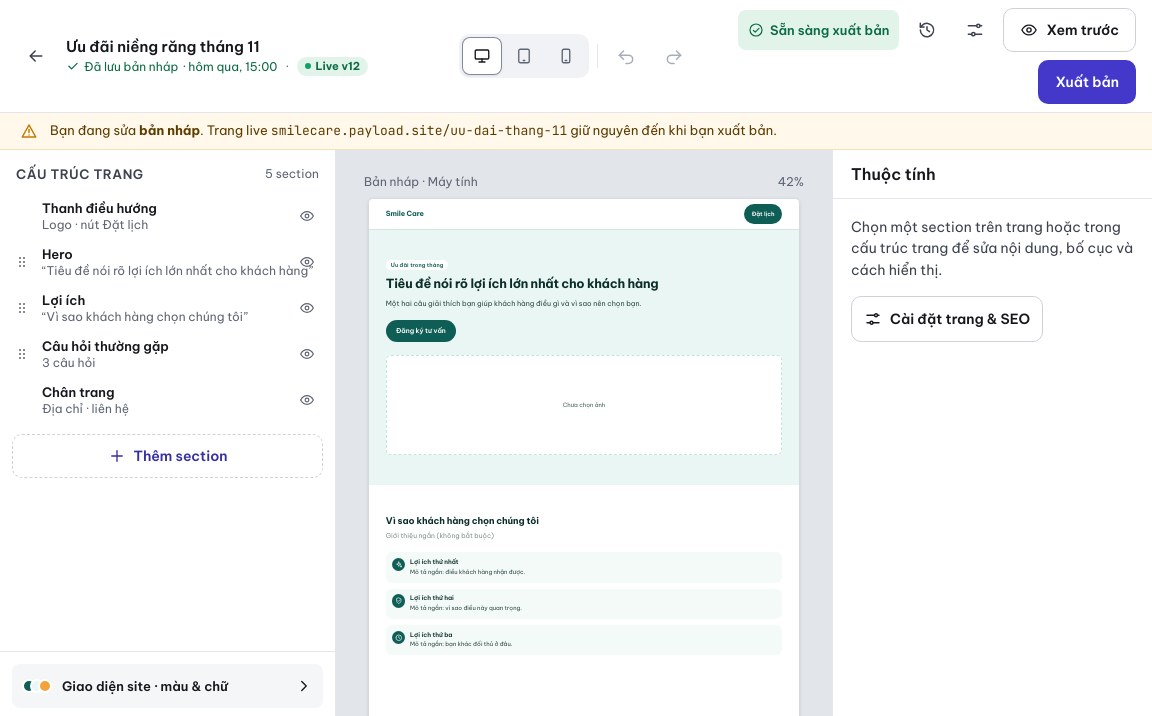
Test: EditorApp › reminds that the live page keeps its look after the site theme changes
Expected: the text "Live v12" is shown, left=296, top=57, right=368, bottom=76
Click the button "Giao diện site · màu & chữ" at (168, 686), box left=12, top=664, right=323, bottom=708
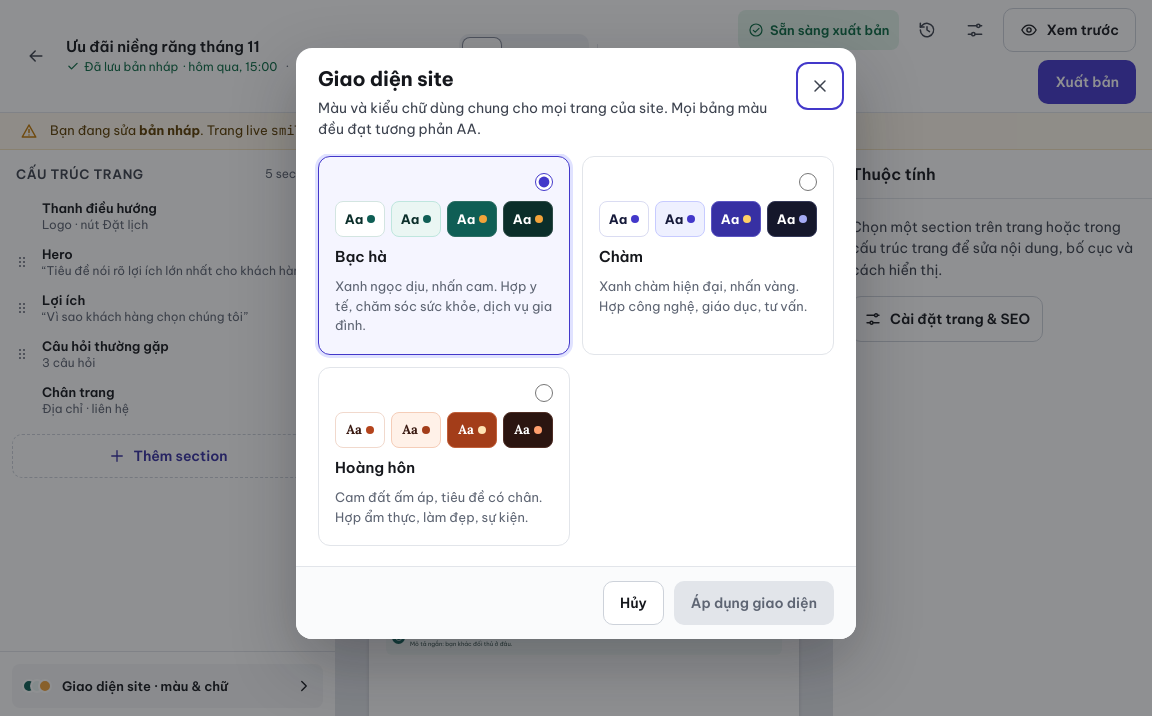
Click the radio button labelled "Hoàng hôn" at (544, 393), box left=535, top=384, right=553, bottom=402
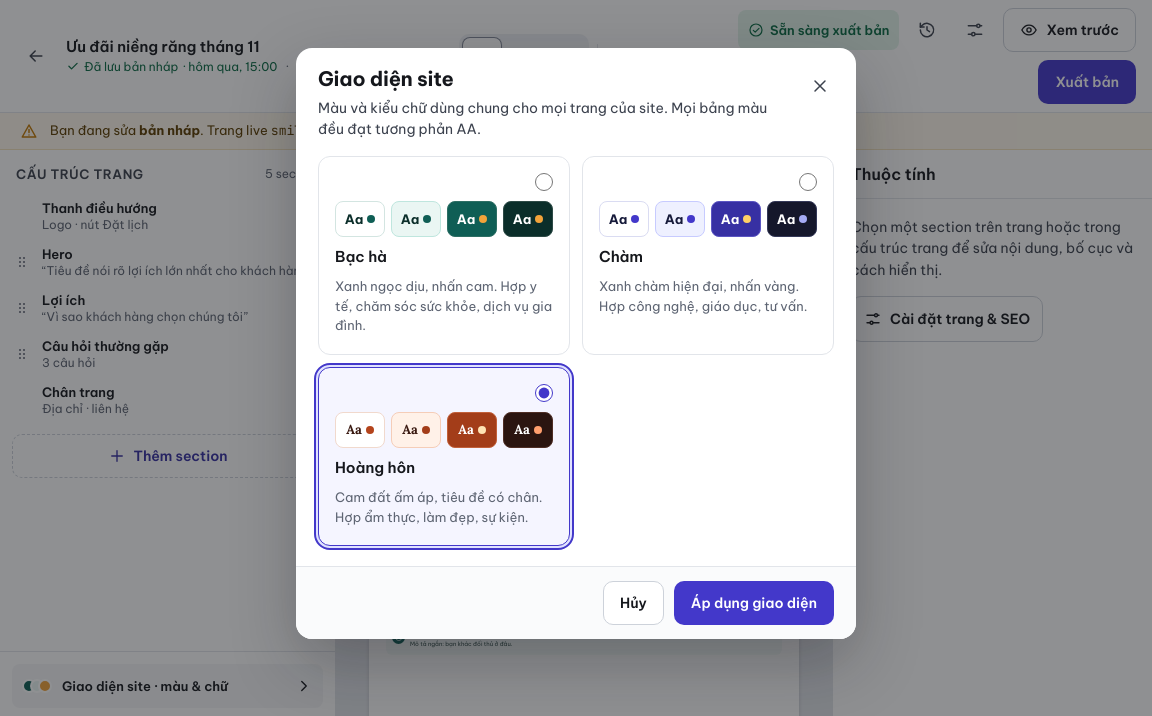
Click the button "Áp dụng giao diện" at (754, 603), box left=674, top=581, right=834, bottom=625
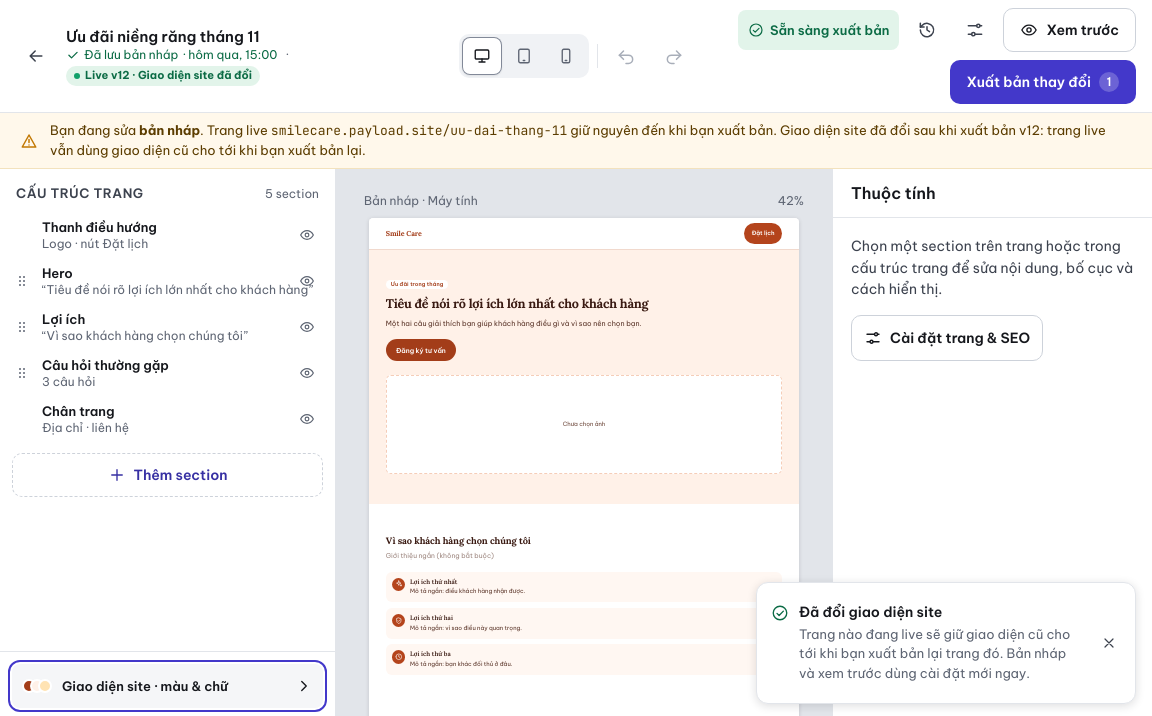
Now the text "Live v12 · Giao diện site đã đổi" is shown, box left=66, top=66, right=260, bottom=86
Now the text "Bạn đang sửa" shows "Giao diện site đã đổi sau khi xuất bản v12: trang live vẫn dùng giao diện cũ cho tới khi bạn xuất bản lại.", box left=50, top=122, right=1106, bottom=158
